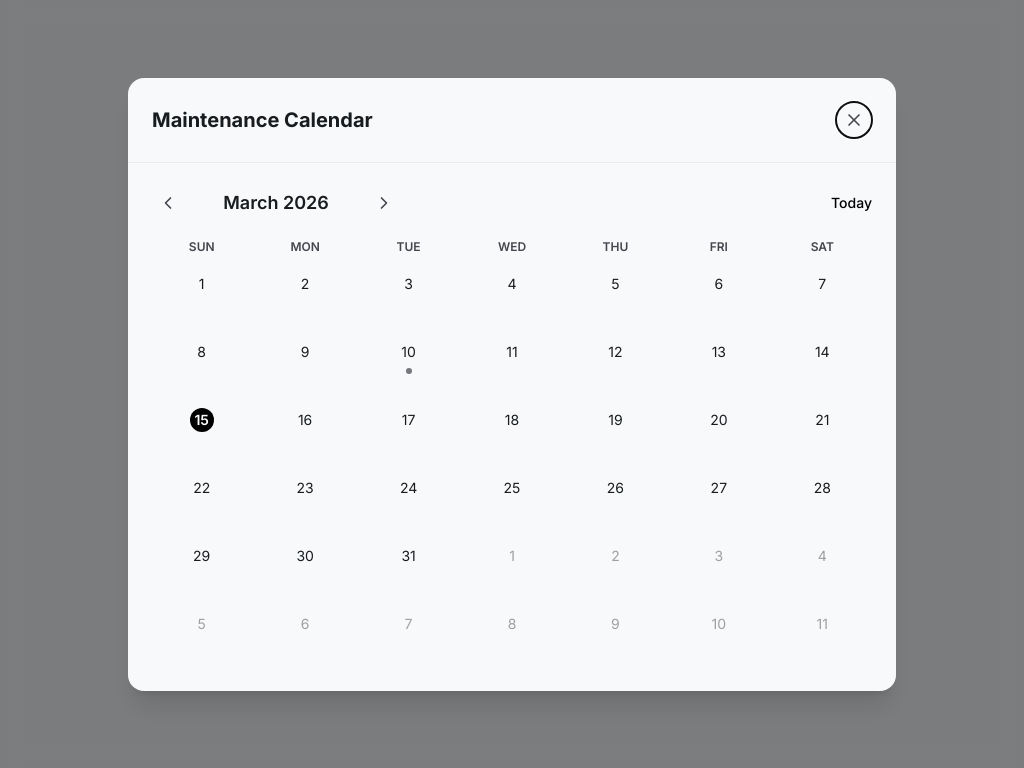
Test: MaintenanceCalendarModal — month grid › steps back and forward a month, and returns with Today
Click the button named "Previous month" at (168, 202), box [152, 186, 184, 218]
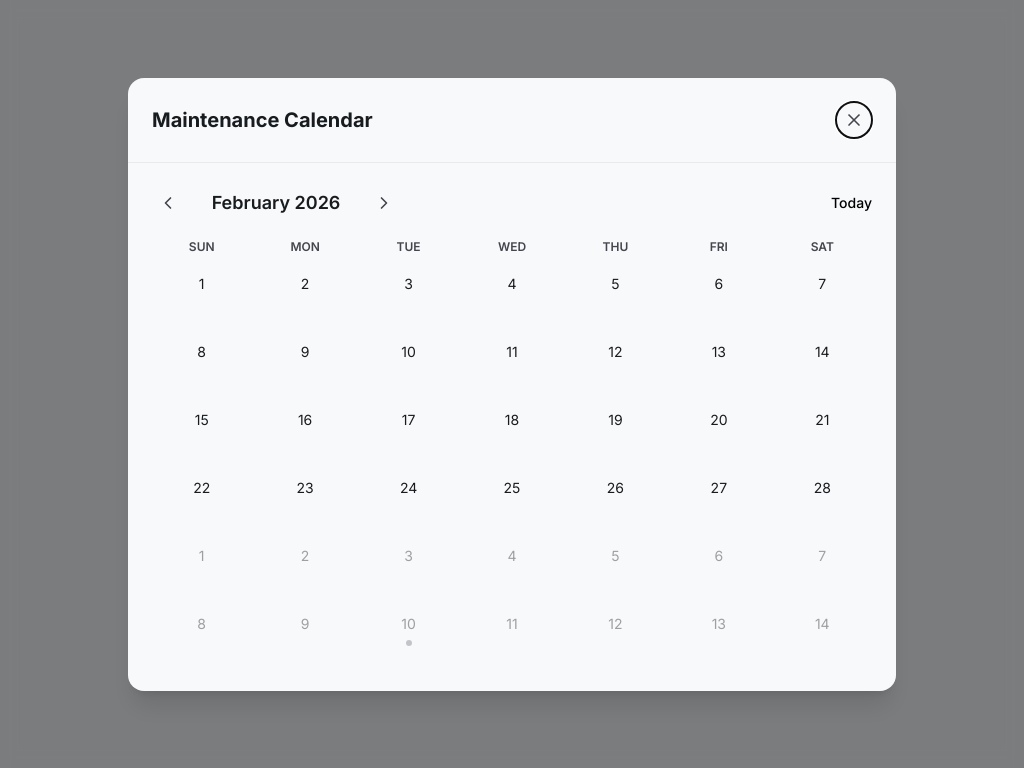
Now the heading "February 2026" is shown, box [212, 192, 340, 212]
Click the button named "Next month" at (384, 202), box [368, 186, 400, 218]
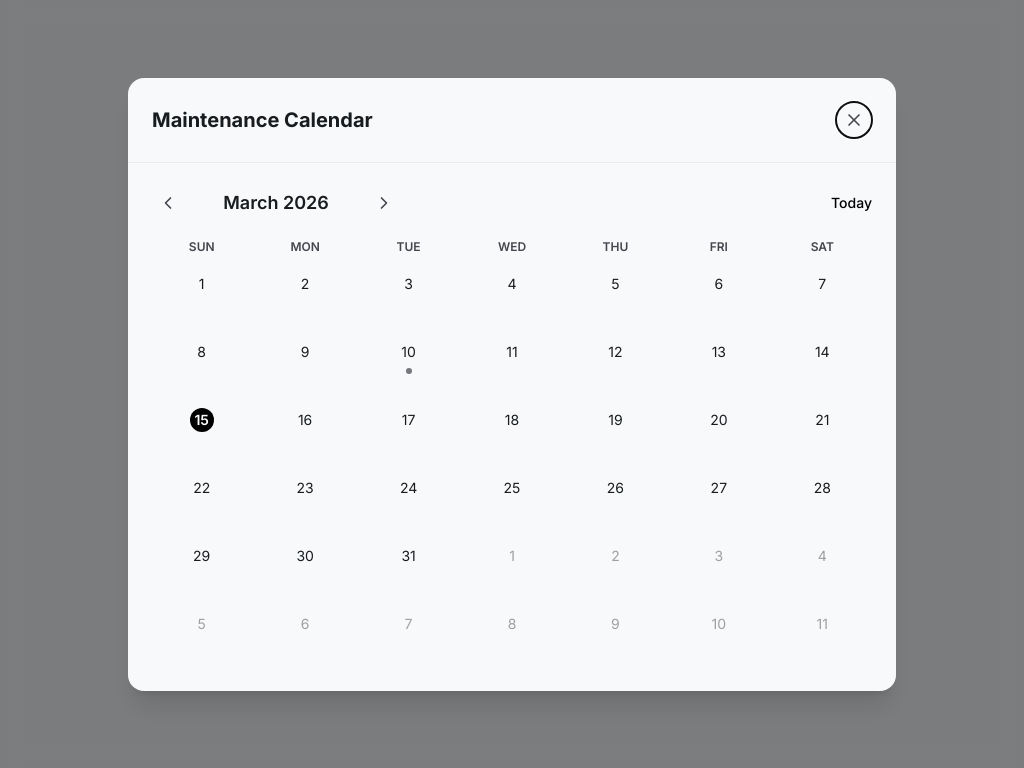
Click the button named "Next month" at (384, 202), box [368, 186, 400, 218]
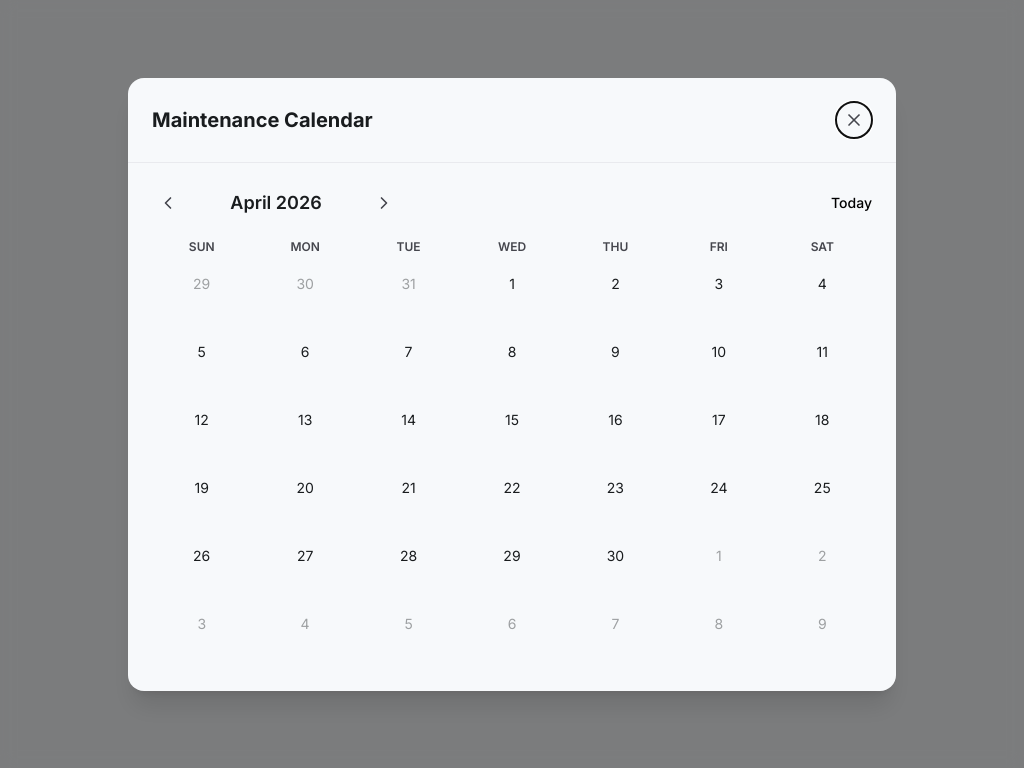
Now the heading "April 2026" is shown, box [230, 192, 322, 212]
Click the button "Today" at (852, 202), box [831, 192, 872, 212]
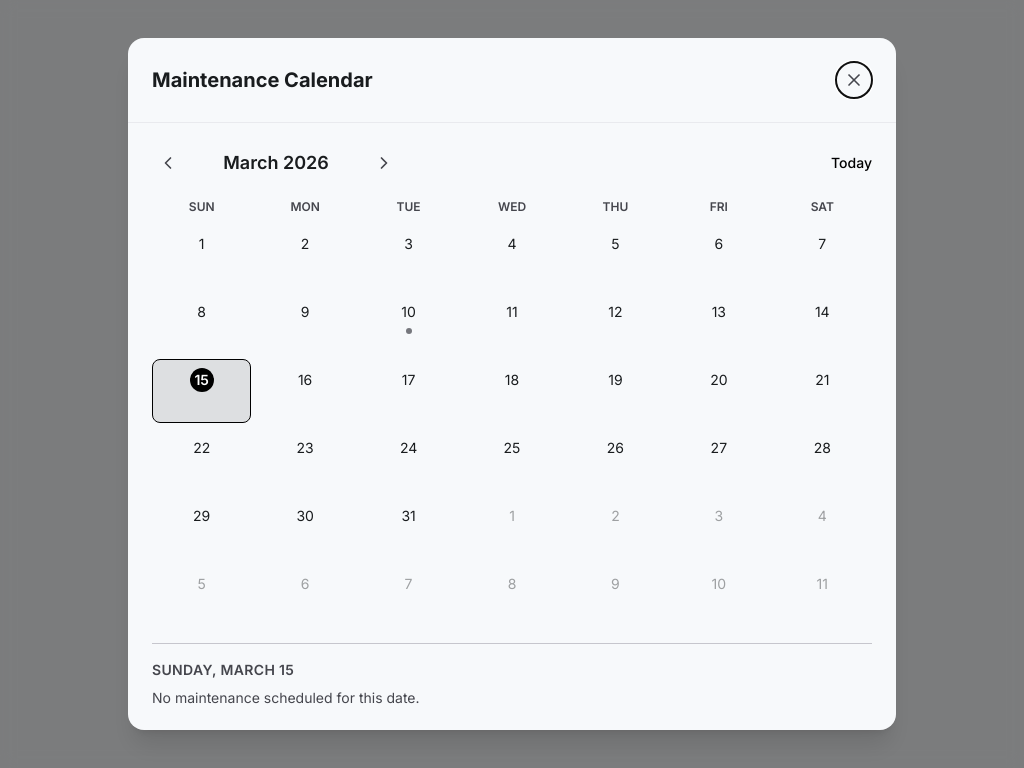
Now the heading "March 2026" is shown, box [223, 152, 329, 173]
